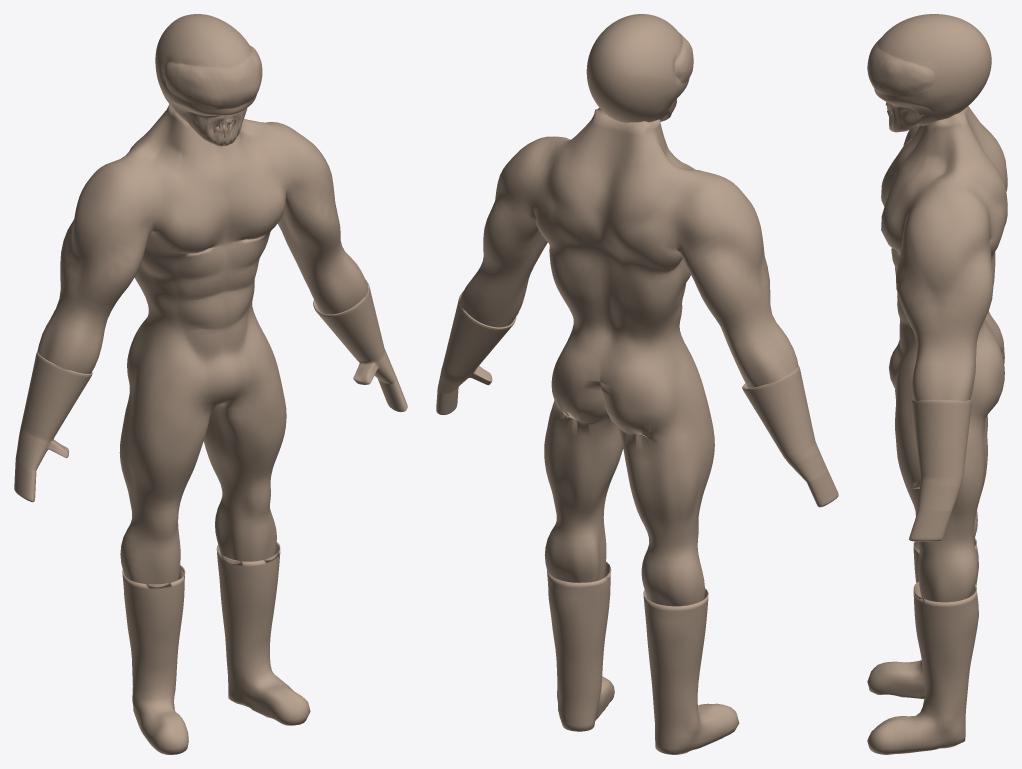
The model's file is Scion.fbx.
The picture shows the model from 3 angles, left to right: view 1: azimuth 30°, elevation 25°; view 2: azimuth 150°, elevation 25°; view 3: azimuth 270°, elevation 25°; orthographic projection. The views are drawn at different scales.
Parts seen in each view (by area): view 1: ScionLoPoly; view 2: ScionLoPoly; view 3: ScionLoPoly.
Boxes of the visible parts, x1,y1,x2,y2 form: ScionLoPoly: (14, 14, 407, 754); ScionLoPoly: (436, 14, 838, 754); ScionLoPoly: (867, 14, 1007, 754).
Bounding box in the file's own units: 5.37 × 9.33 × 1.69.
